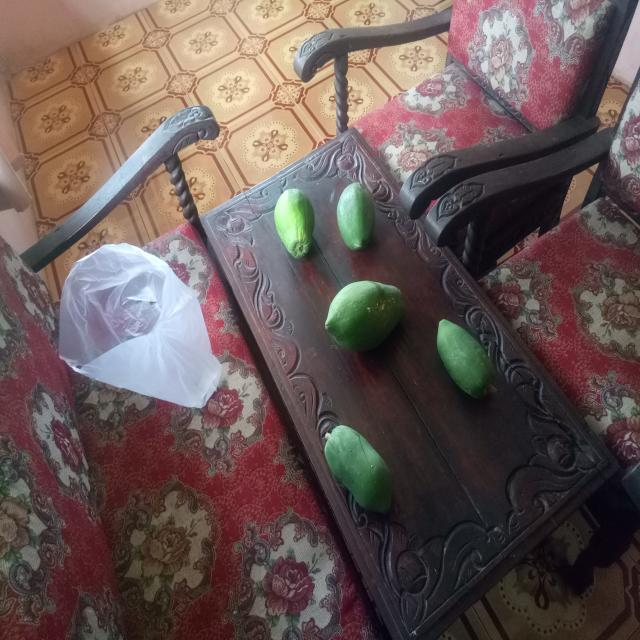Pepaya unrippen: (319, 275, 413, 351), (318, 429, 390, 506), (268, 183, 322, 265), (334, 173, 374, 267), (439, 320, 488, 395)
